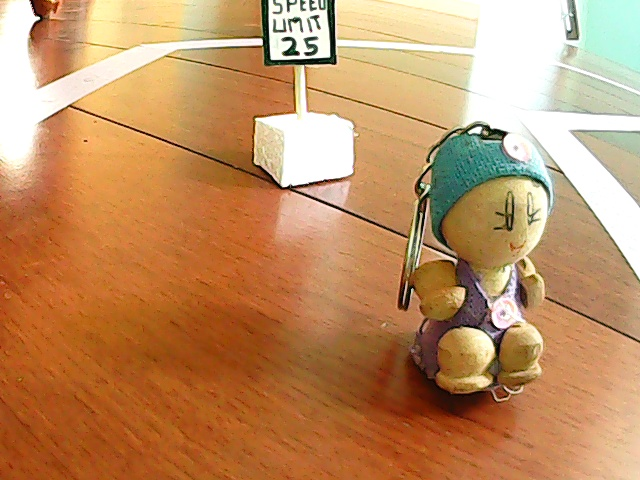pedestrain: (402, 116, 554, 412)
speed_25: (247, 1, 372, 185)
